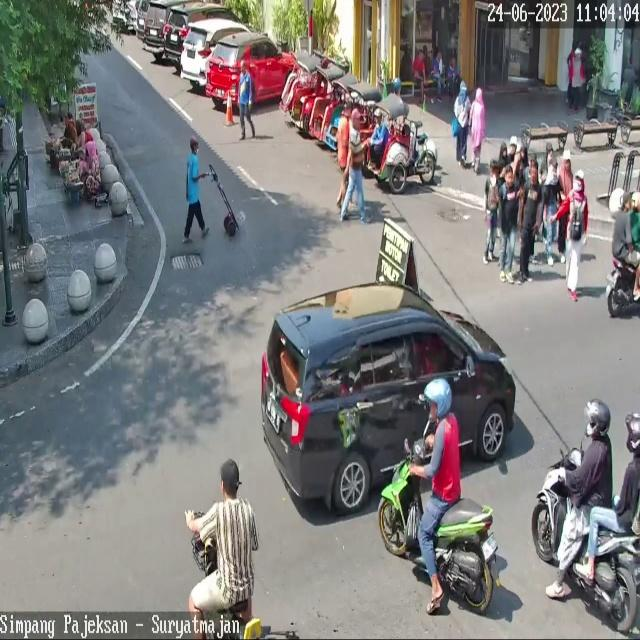bus: (377, 437, 500, 614), (531, 445, 640, 633), (604, 254, 640, 317)
motorcycle: (261, 281, 515, 514), (206, 34, 300, 106), (163, 4, 246, 64), (181, 21, 252, 87), (143, 0, 169, 53)
